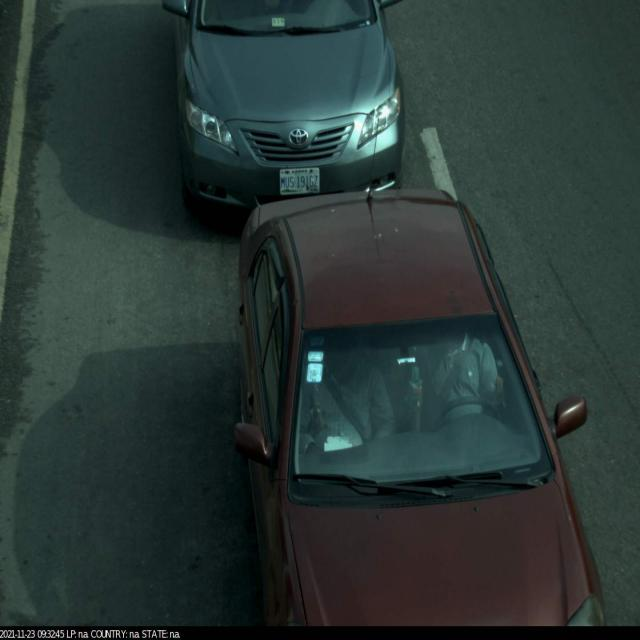windshield: (283, 305, 565, 511)
